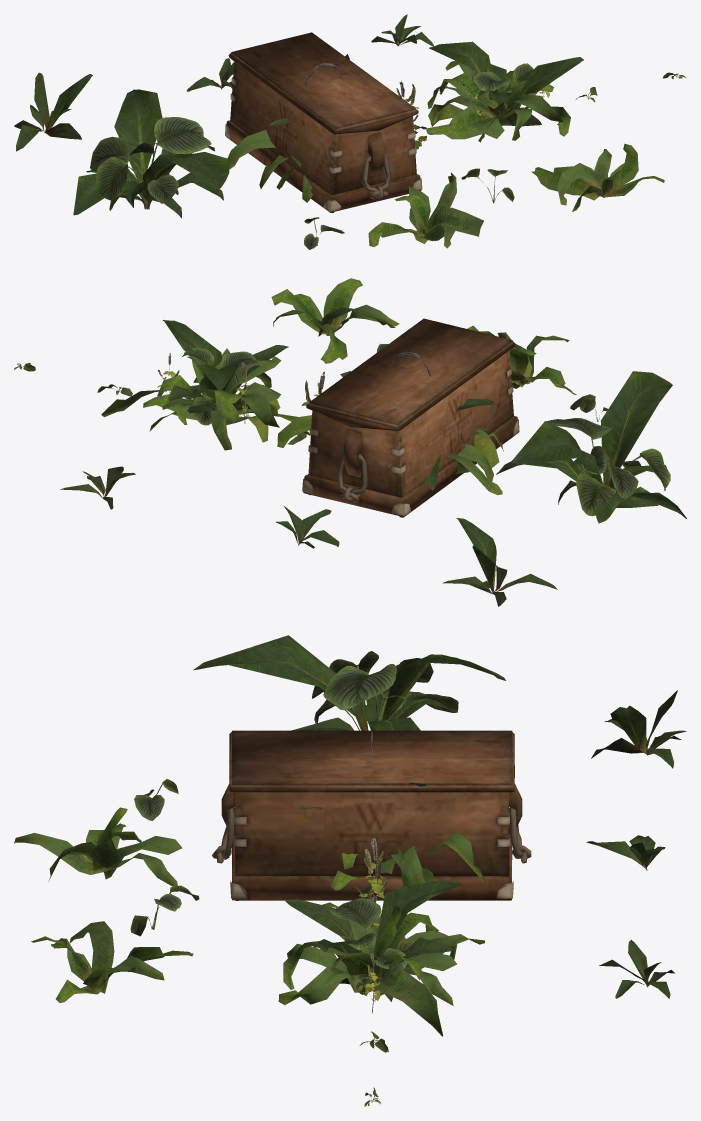
3 renders of one model, top to bottom at view 1: azimuth 30°, elevation 25°; view 2: azimuth 150°, elevation 25°; view 3: azimuth 270°, elevation 25°, orthographic. The views are drawn at different scales.
Parts seen in each view (by area): view 1: wooden_crate_02_crate, fern_02_b, anthurium_botany_01_a, calathea_orbifolia_01_a, shrub_03_a; view 2: wooden_crate_02_crate, anthurium_botany_01_a, fern_02_b, calathea_orbifolia_01_a, shrub_03_a; view 3: wooden_crate_02_crate, fern_02_b, anthurium_botany_01_a, calathea_orbifolia_01_a, shrub_03_a.
Part boxes in pixels (left/top/right/bottom): wooden_crate_02_crate: left=225, top=32, right=422, bottom=212; fern_02_b: left=227, top=56, right=664, bottom=248; anthurium_botany_01_a: left=14, top=14, right=583, bottom=218; calathea_orbifolia_01_a: left=90, top=63, right=539, bottom=249; shrub_03_a: left=396, top=70, right=550, bottom=121; wooden_crate_02_crate: left=302, top=318, right=519, bottom=517; anthurium_botany_01_a: left=60, top=320, right=686, bottom=606; fern_02_b: left=101, top=278, right=576, bottom=495; calathea_orbifolia_01_a: left=182, top=344, right=670, bottom=516; shrub_03_a: left=157, top=353, right=324, bottom=423; wooden_crate_02_crate: left=212, top=730, right=531, bottom=900; fern_02_b: left=14, top=807, right=485, bottom=1036; anthurium_botany_01_a: left=193, top=635, right=686, bottom=1001; calathea_orbifolia_01_a: left=130, top=651, right=458, bottom=984; shrub_03_a: left=355, top=834, right=388, bottom=1013.
Size of the model in its own units: 3.46 by 0.5784 by 2.45.
9 materials, 9 textured.
